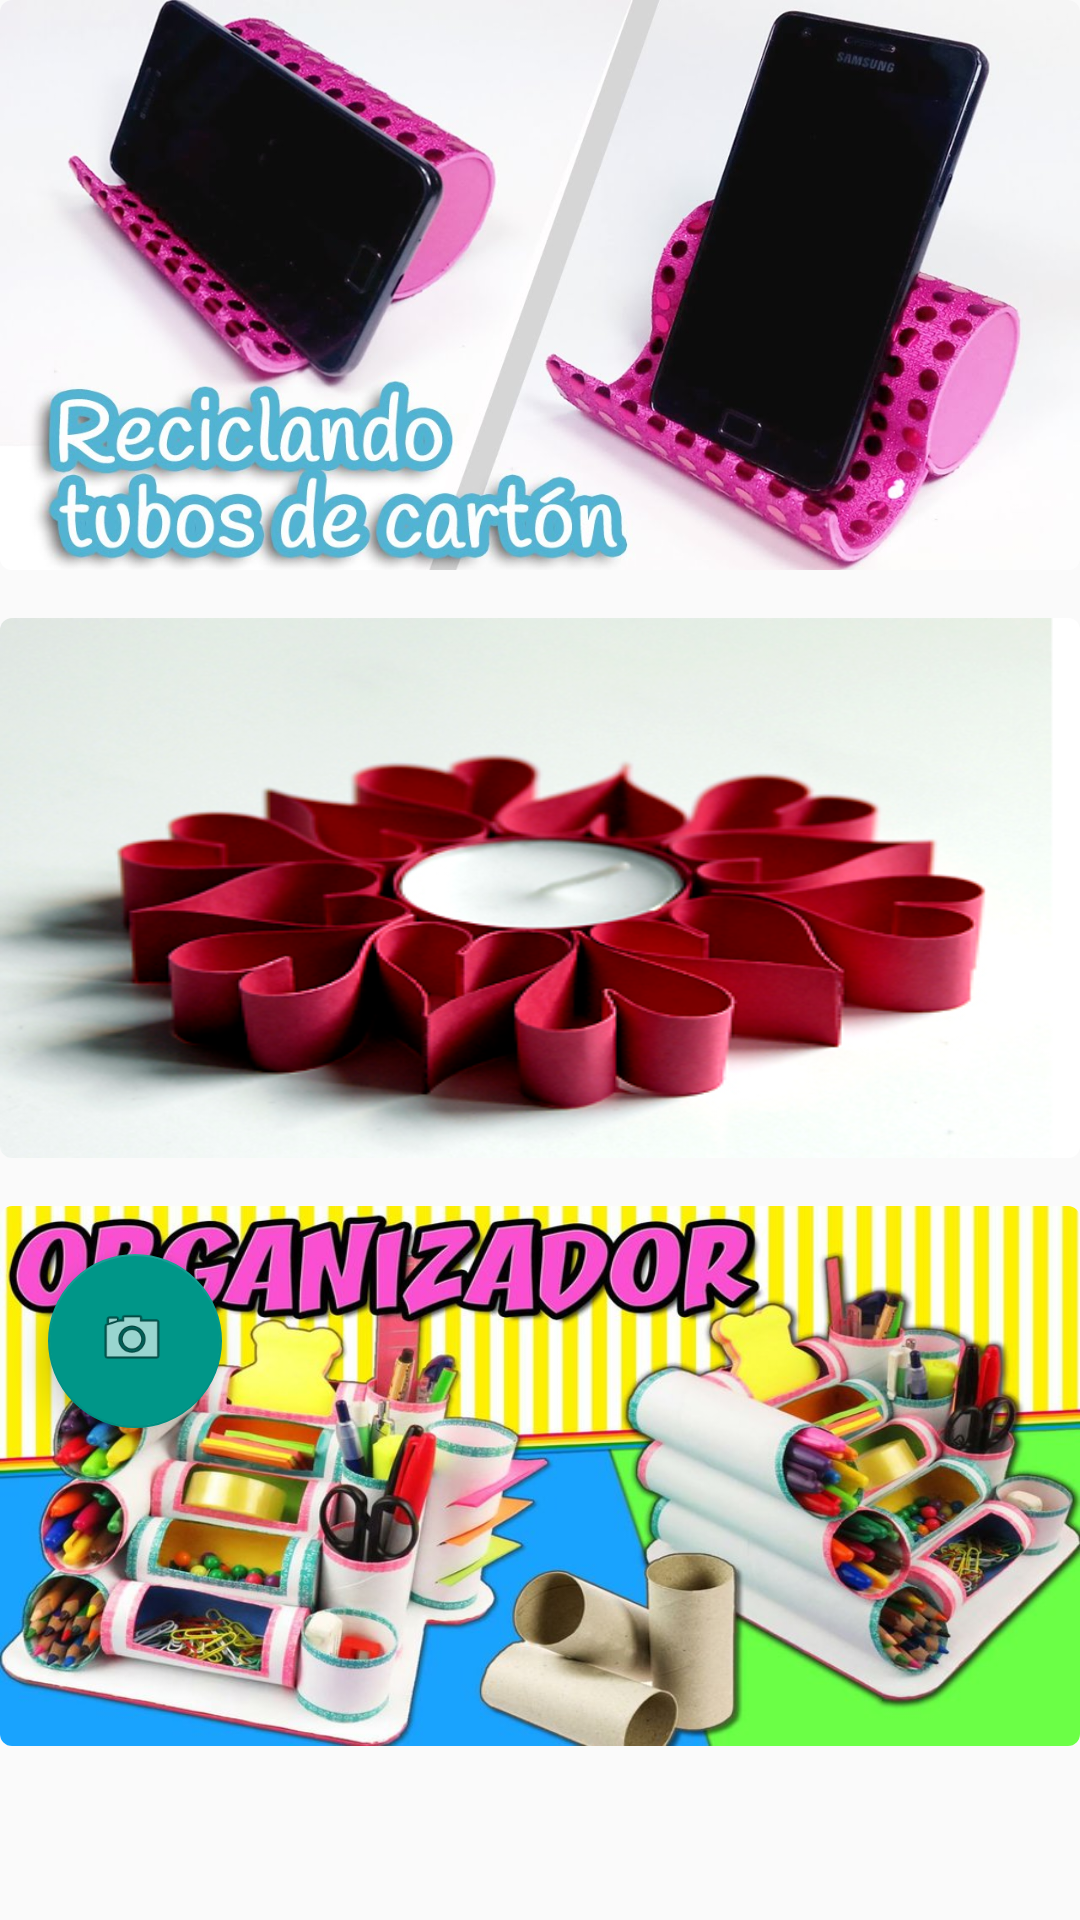

Named icons in this screenshot (1080×1920) and their centers, (x,y):
camera: (135,1341)
